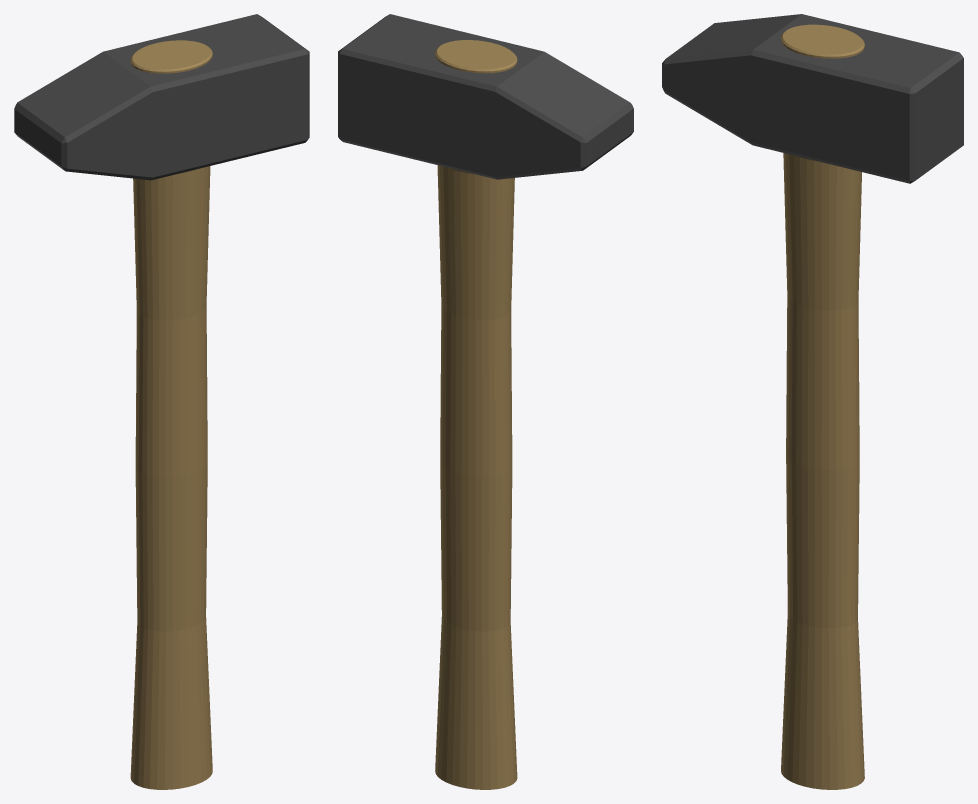
File: Blacksmith Hammer.fbx
3 views of the same model, side by side, from view 1: azimuth 30°, elevation 25°; view 2: azimuth 150°, elevation 25°; view 3: azimuth 330°, elevation 25° (orthographic). The views are drawn at different scales.
Parts seen in each view (by area): view 1: Hammer; view 2: Hammer; view 3: Hammer.
Boxes of the visible parts, left/top/right/bottom form: Hammer: left=14, top=14, right=309, bottom=789; Hammer: left=338, top=14, right=633, bottom=789; Hammer: left=662, top=14, right=963, bottom=789.
Size of the model in its own units: 16.96 by 46.97 by 6.1.
